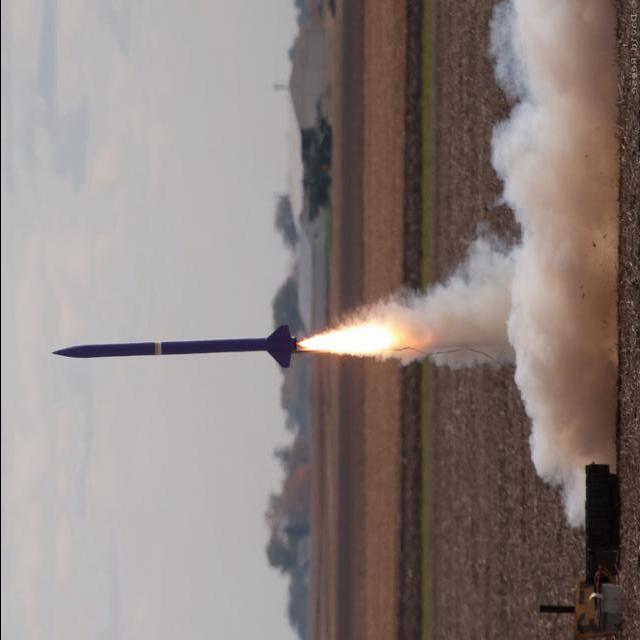missile: (52, 325, 302, 367)
